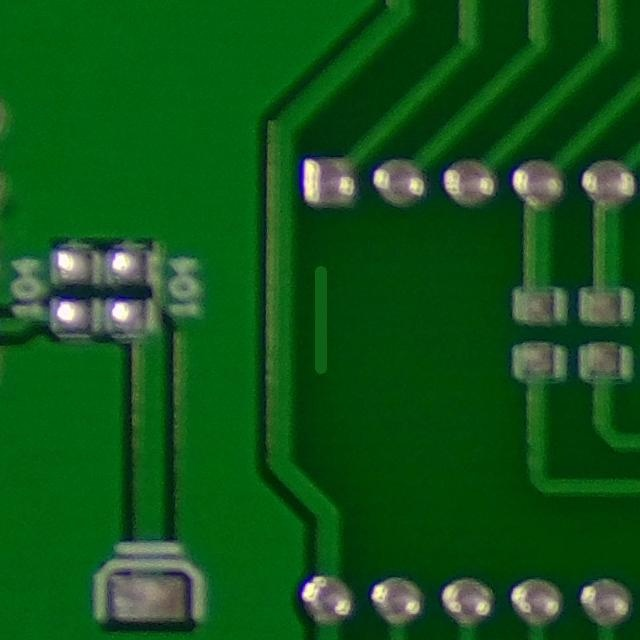spurious_copper: (291, 254, 350, 387)
